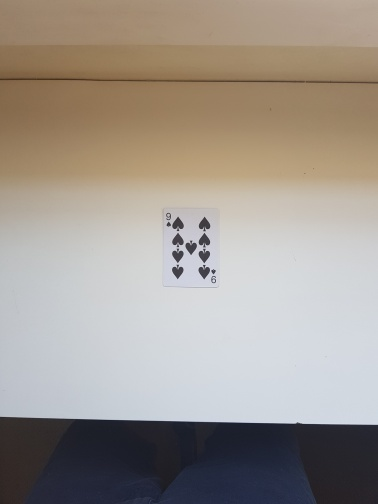nine: (161, 207, 220, 288)
